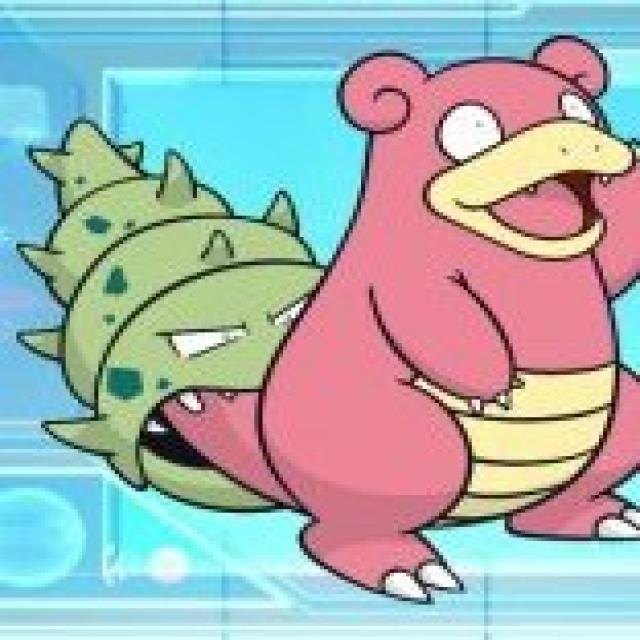Slowbro: (214, 38, 637, 543)
